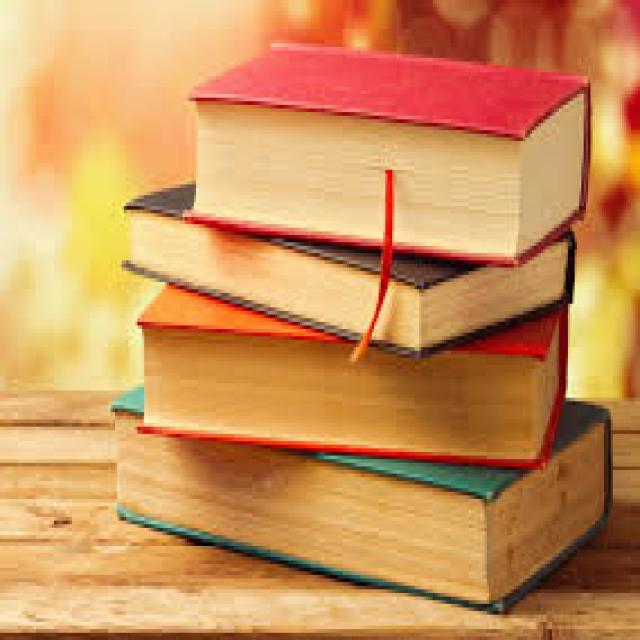paper: (108, 387, 611, 615), (181, 40, 591, 260), (133, 282, 566, 470), (120, 178, 573, 355)
